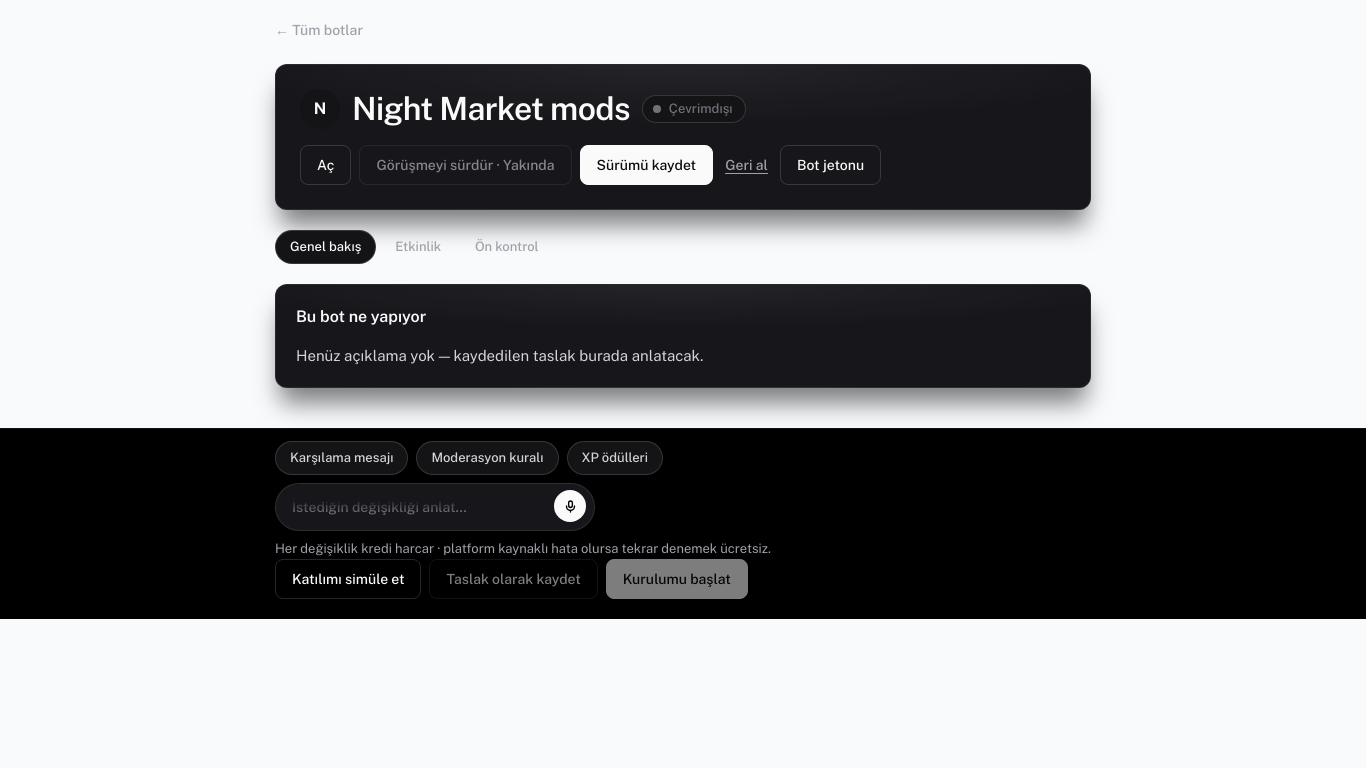
Test: bot detail page › a 401 says logged-out in plain words and Tekrar dene re-issues after login
Click the button with aria-label "Open prompt input".
click(435, 508)  # box [276, 484, 594, 531]
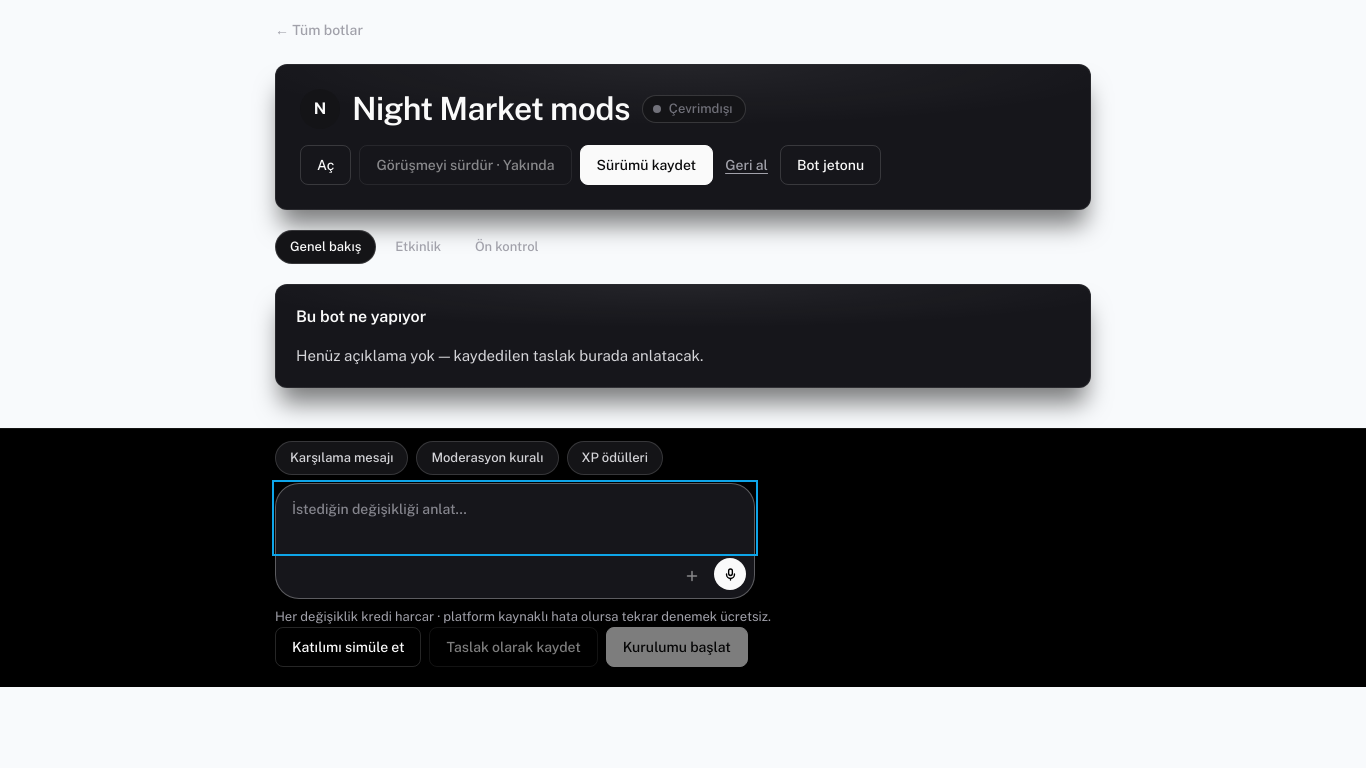
Type "Add a welcome rule" into the text box named "Prompt".
click(515, 518); type("Add a welcome rule")  # box [276, 484, 754, 552]
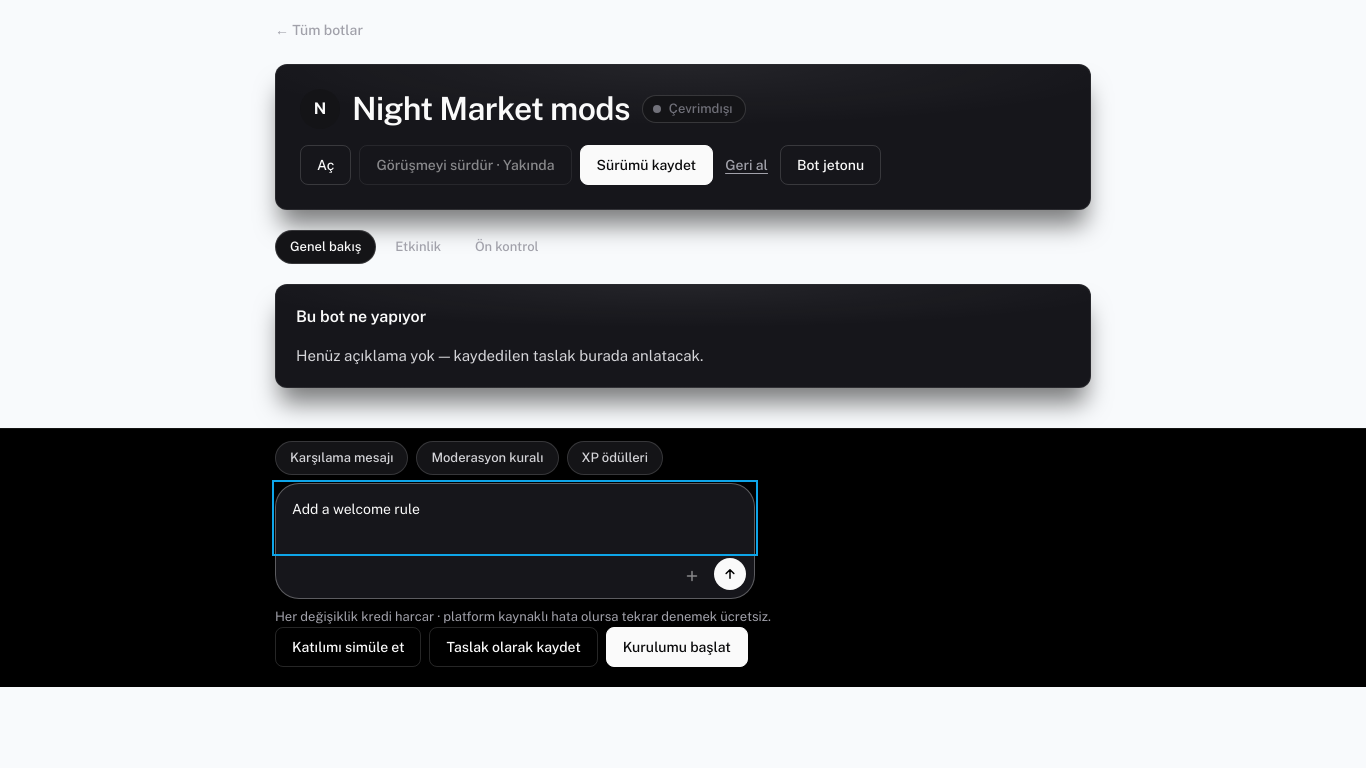
Press Enter in the text box named "Prompt", box [276, 484, 754, 552]
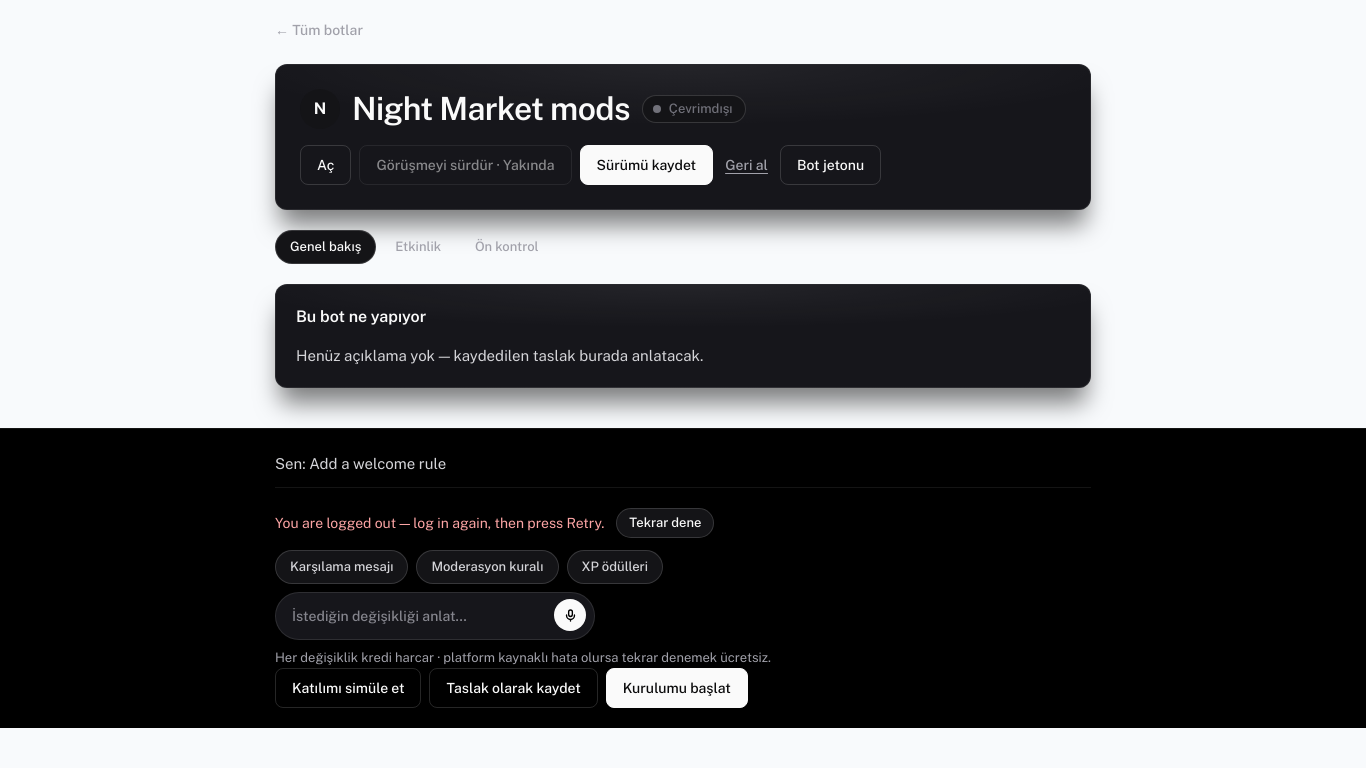
expect the text "You are logged out — log in again, then press Retry." is shown: met, box [275, 512, 604, 534]
Click the button "Tekrar dene".
click(665, 523)  # box [616, 508, 714, 538]
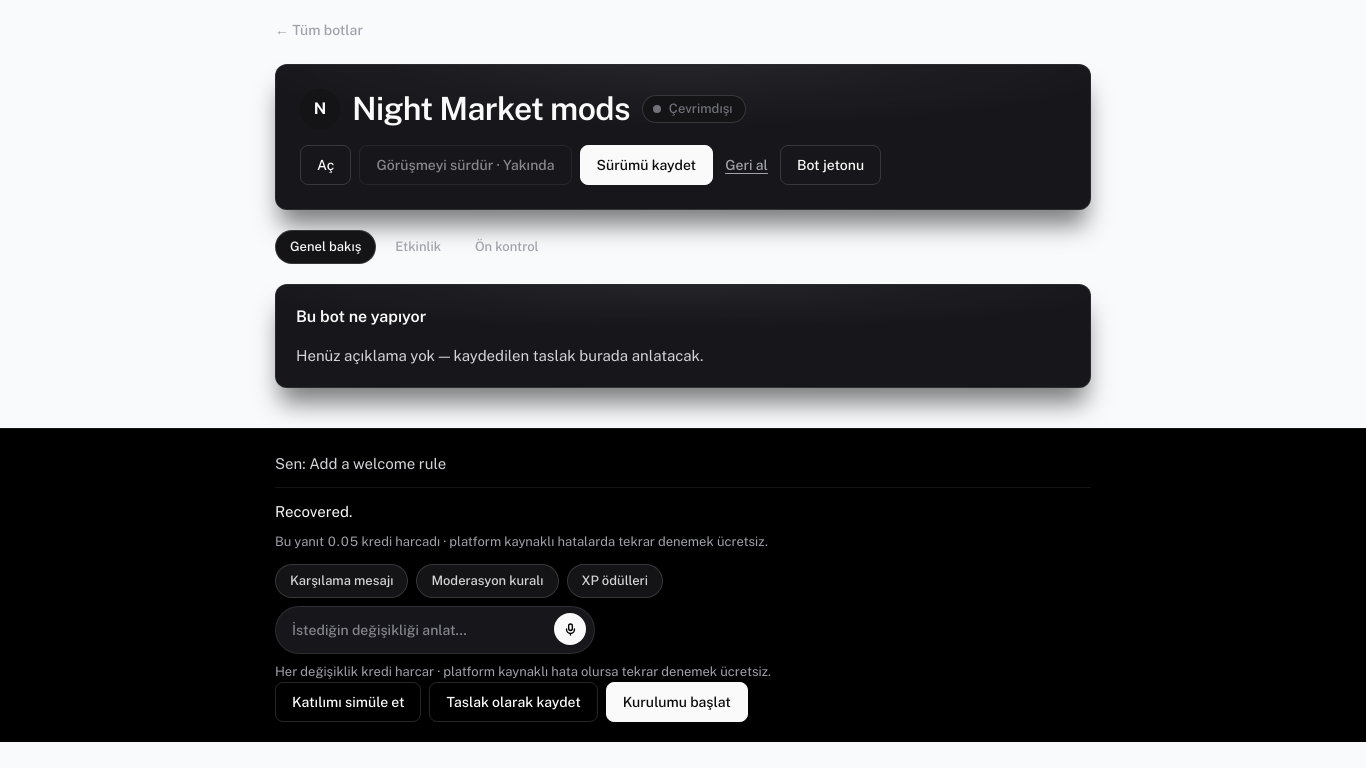
expect the text "Recovered." is shown: met, box [275, 503, 352, 520]
